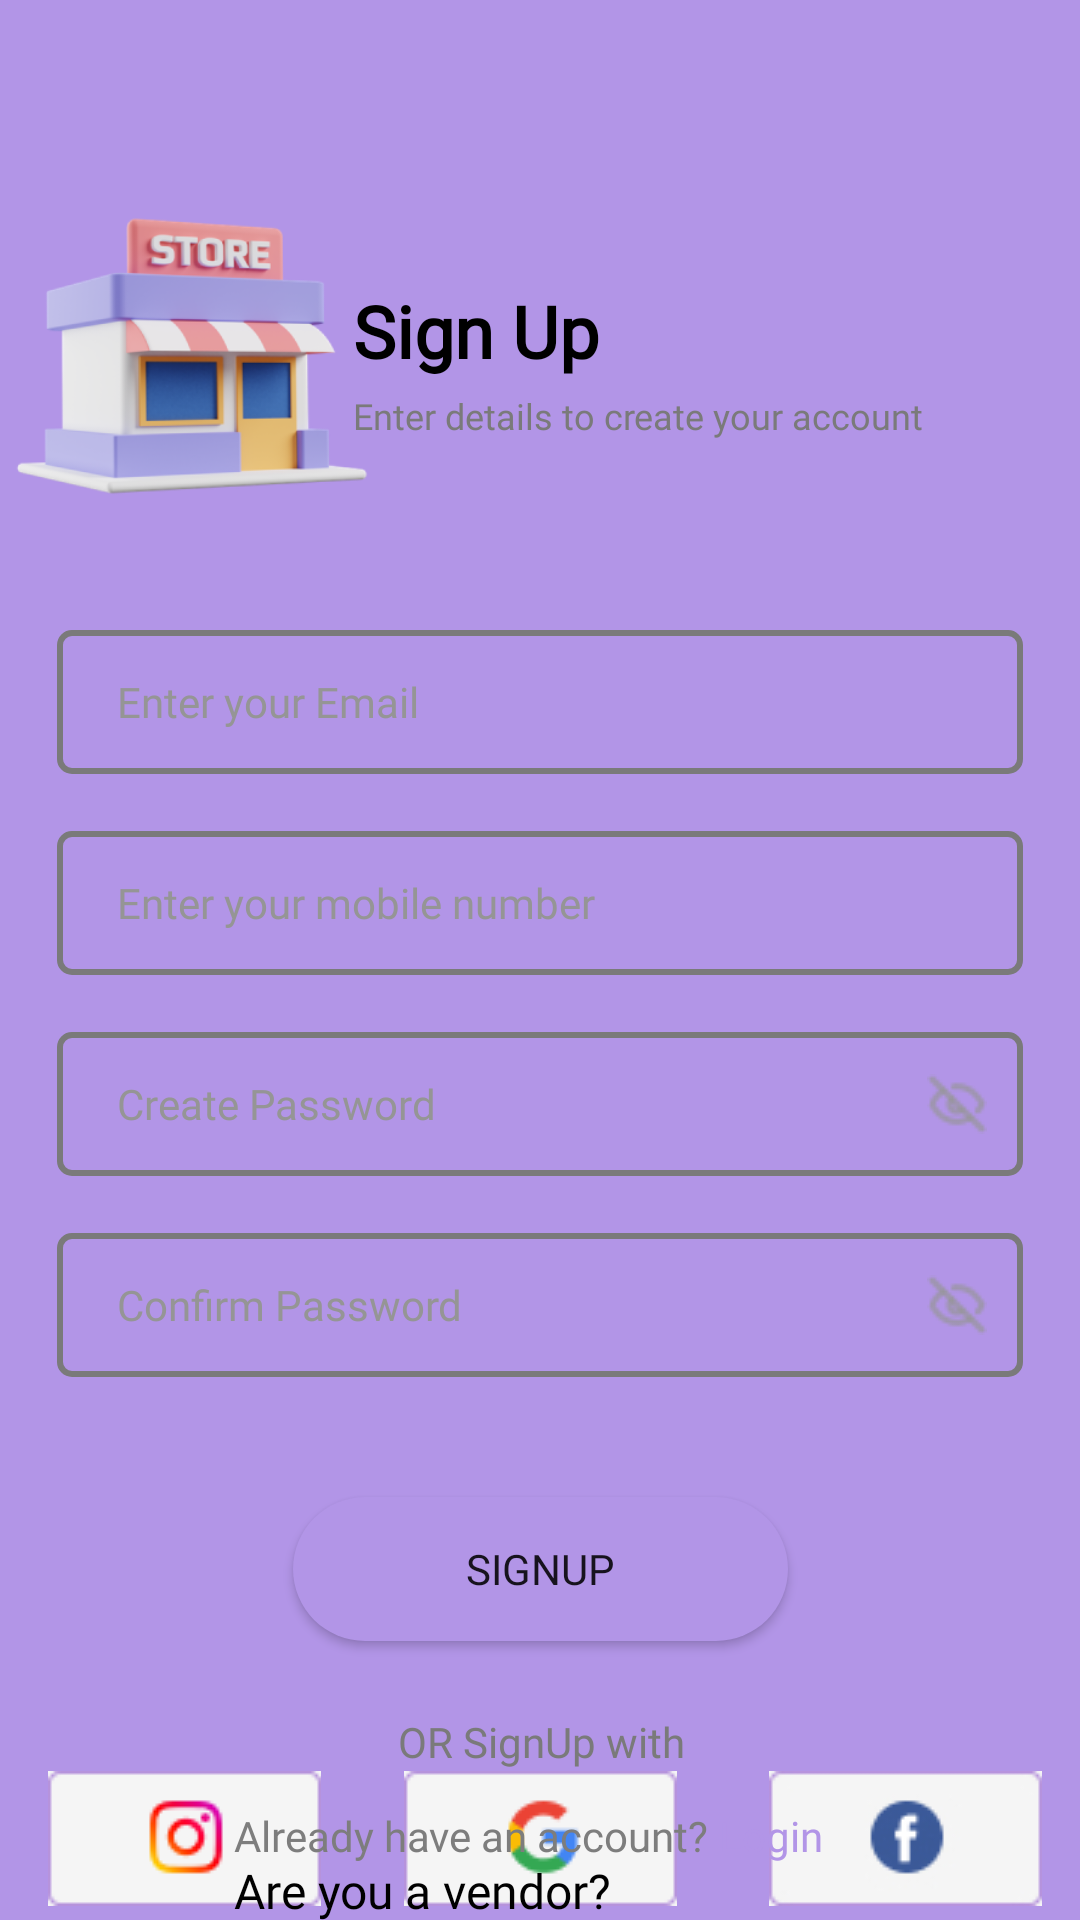

Icons on this 1080px×1920px Android screen, each with the point to tap as point (x, y):
eyeoff: point (957, 1104), point (957, 1305)
